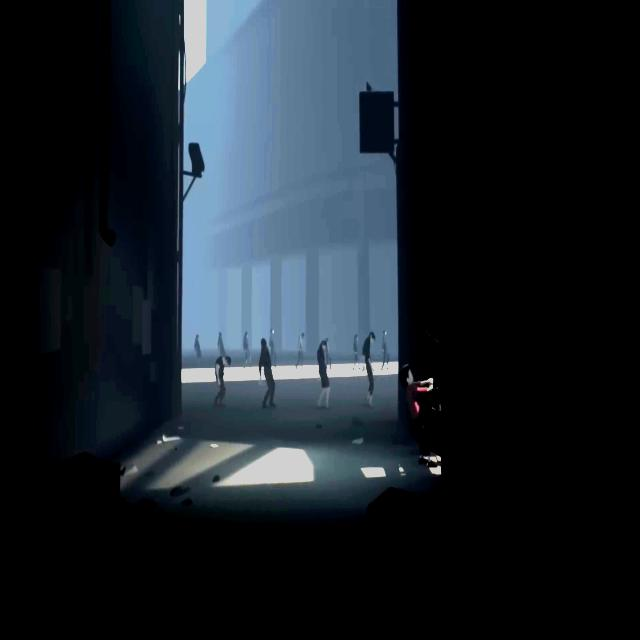boy: (400, 364, 437, 468)
zombie: (259, 338, 276, 408), (363, 331, 376, 409), (214, 356, 232, 407), (317, 341, 330, 407), (381, 329, 390, 371), (296, 332, 305, 368), (269, 328, 277, 366), (243, 332, 251, 368), (353, 334, 361, 369), (218, 331, 227, 356), (194, 334, 202, 362)
